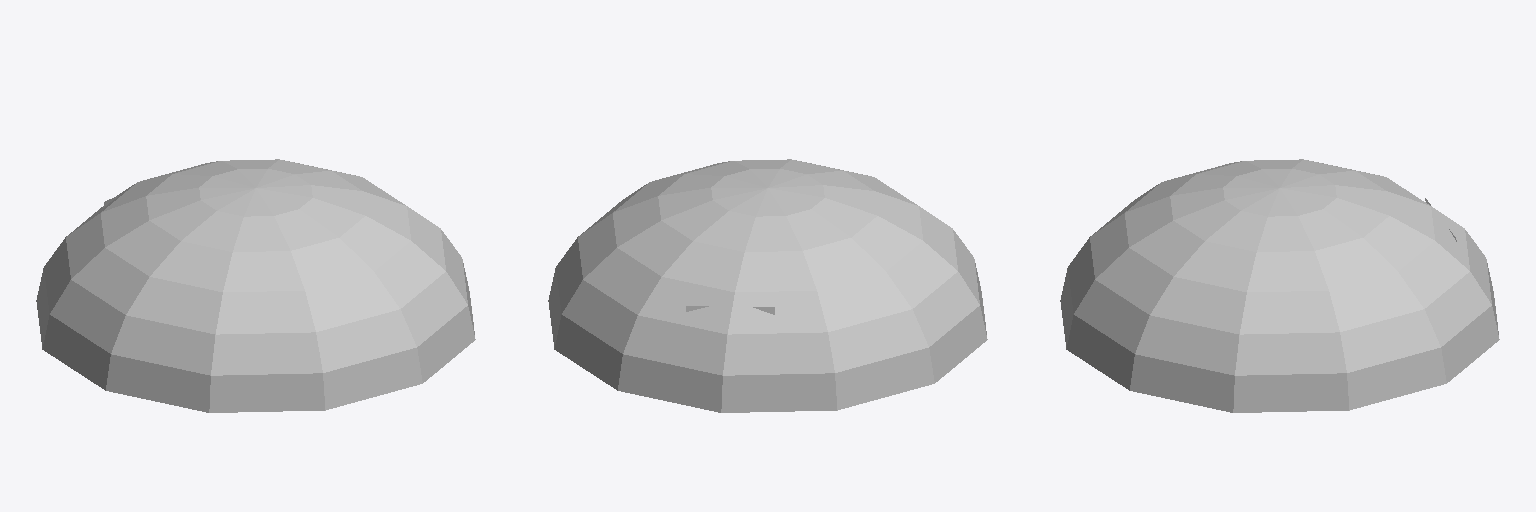
Rendered from ma_sky.obj.
The picture shows the model from 3 angles: view 1: azimuth 30°, elevation 25°; view 2: azimuth 150°, elevation 25°; view 3: azimuth 270°, elevation 25°; orthographic projection.
Visible parts, largest first — view 1: ma_sky; view 2: ma_sky; view 3: ma_sky.
Boxes of the visible parts, x1,y1,x2,y2 form: ma_sky: [36, 159, 475, 412]; ma_sky: [548, 159, 987, 412]; ma_sky: [1060, 159, 1499, 412].
Bounding box in the file's own units: 378505 × 129057 × 378505.